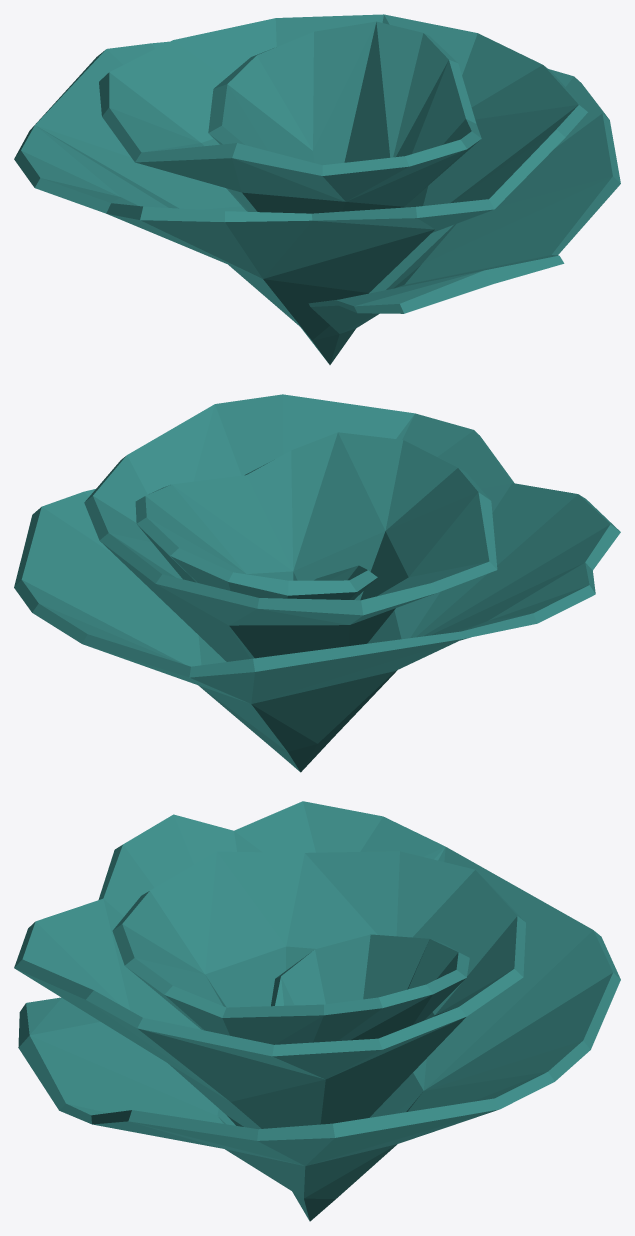
The model's file is SM_Coral_Leaf_Mature_A.fbx.
3 views of the same model, one above another, from view 1: azimuth 30°, elevation 25°; view 2: azimuth 150°, elevation 25°; view 3: azimuth 270°, elevation 25° (orthographic). The views are drawn at different scales.
Visible parts, largest first — view 1: coral-leaf-mature-a; view 2: coral-leaf-mature-a; view 3: coral-leaf-mature-a.
Part boxes in pixels (x1,y1,x2,y2): coral-leaf-mature-a: (14,14,620,364); coral-leaf-mature-a: (14,394,620,772); coral-leaf-mature-a: (14,801,620,1221).
Size of the model in its own units: 1.44 by 0.7053 by 1.29.
